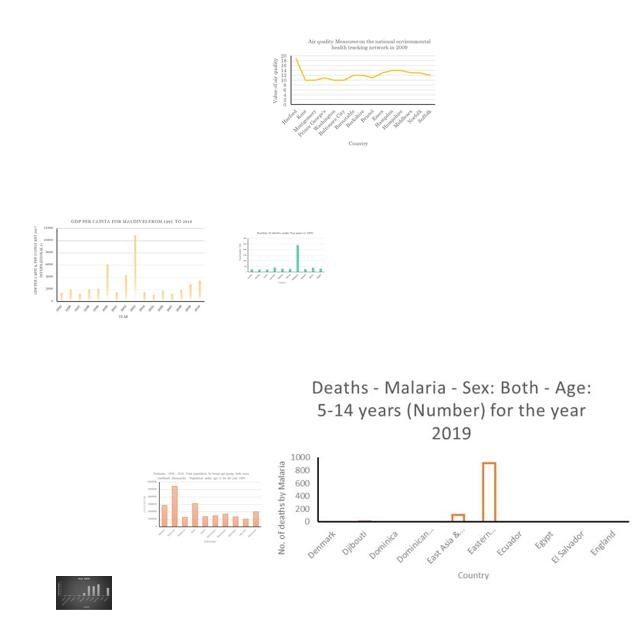Graph: (268, 374, 634, 589), (270, 35, 438, 150), (31, 217, 207, 321), (141, 471, 263, 544), (237, 230, 327, 286), (56, 576, 112, 610)
